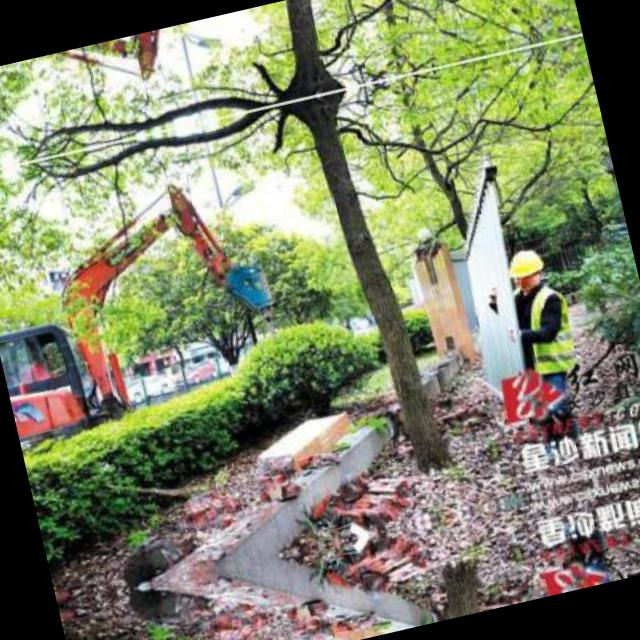helmet: (503, 244, 550, 295)
